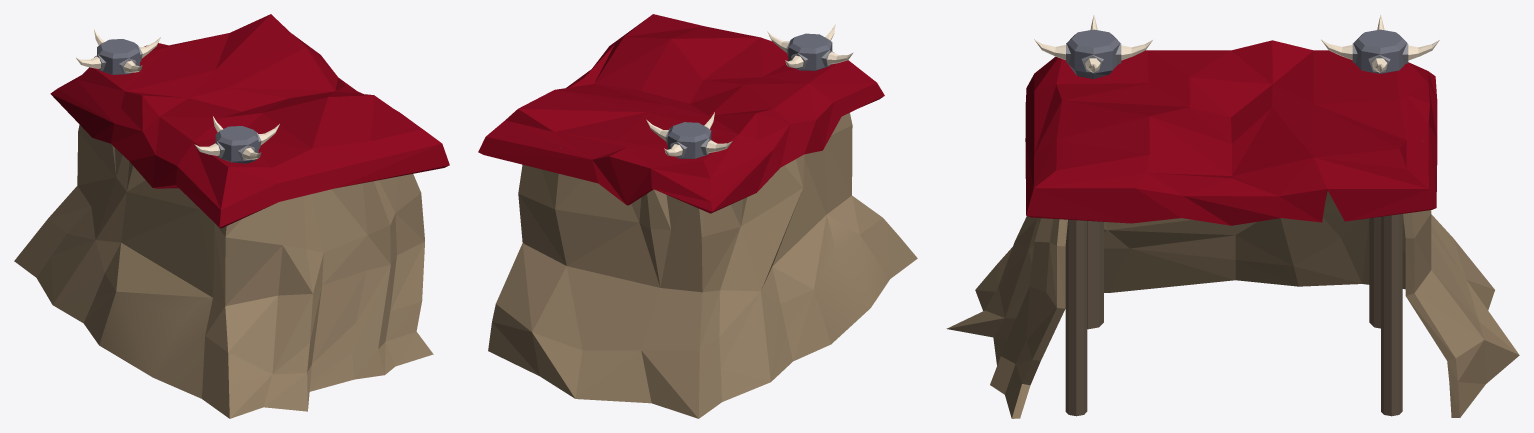
File: tent_2.fbx
The picture shows the model from 3 angles, left to right: view 1: azimuth 30°, elevation 25°; view 2: azimuth 150°, elevation 25°; view 3: azimuth 270°, elevation 25°; orthographic projection. The views are drawn at different scales.
Visible parts, largest first — view 1: tent_2; view 2: tent_2; view 3: tent_2.
Part boxes in pixels (<box>): tent_2: <box>14,14,449,418</box>; tent_2: <box>478,14,917,418</box>; tent_2: <box>946,14,1519,418</box>.
Bounding box in the file's own units: 608 × 518 × 947.
